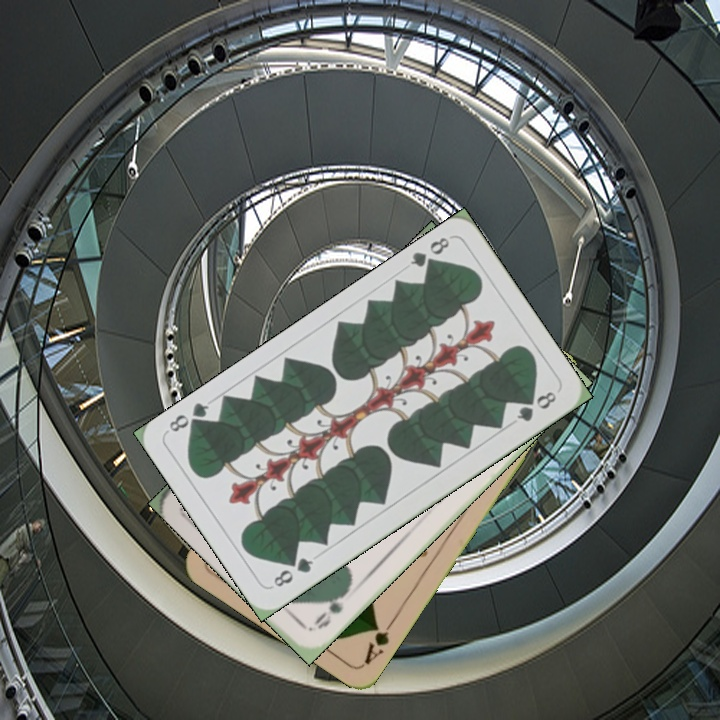G8: (406, 233, 452, 275), (269, 553, 316, 590)
GA: (359, 614, 398, 668)
GO: (310, 584, 352, 632)
